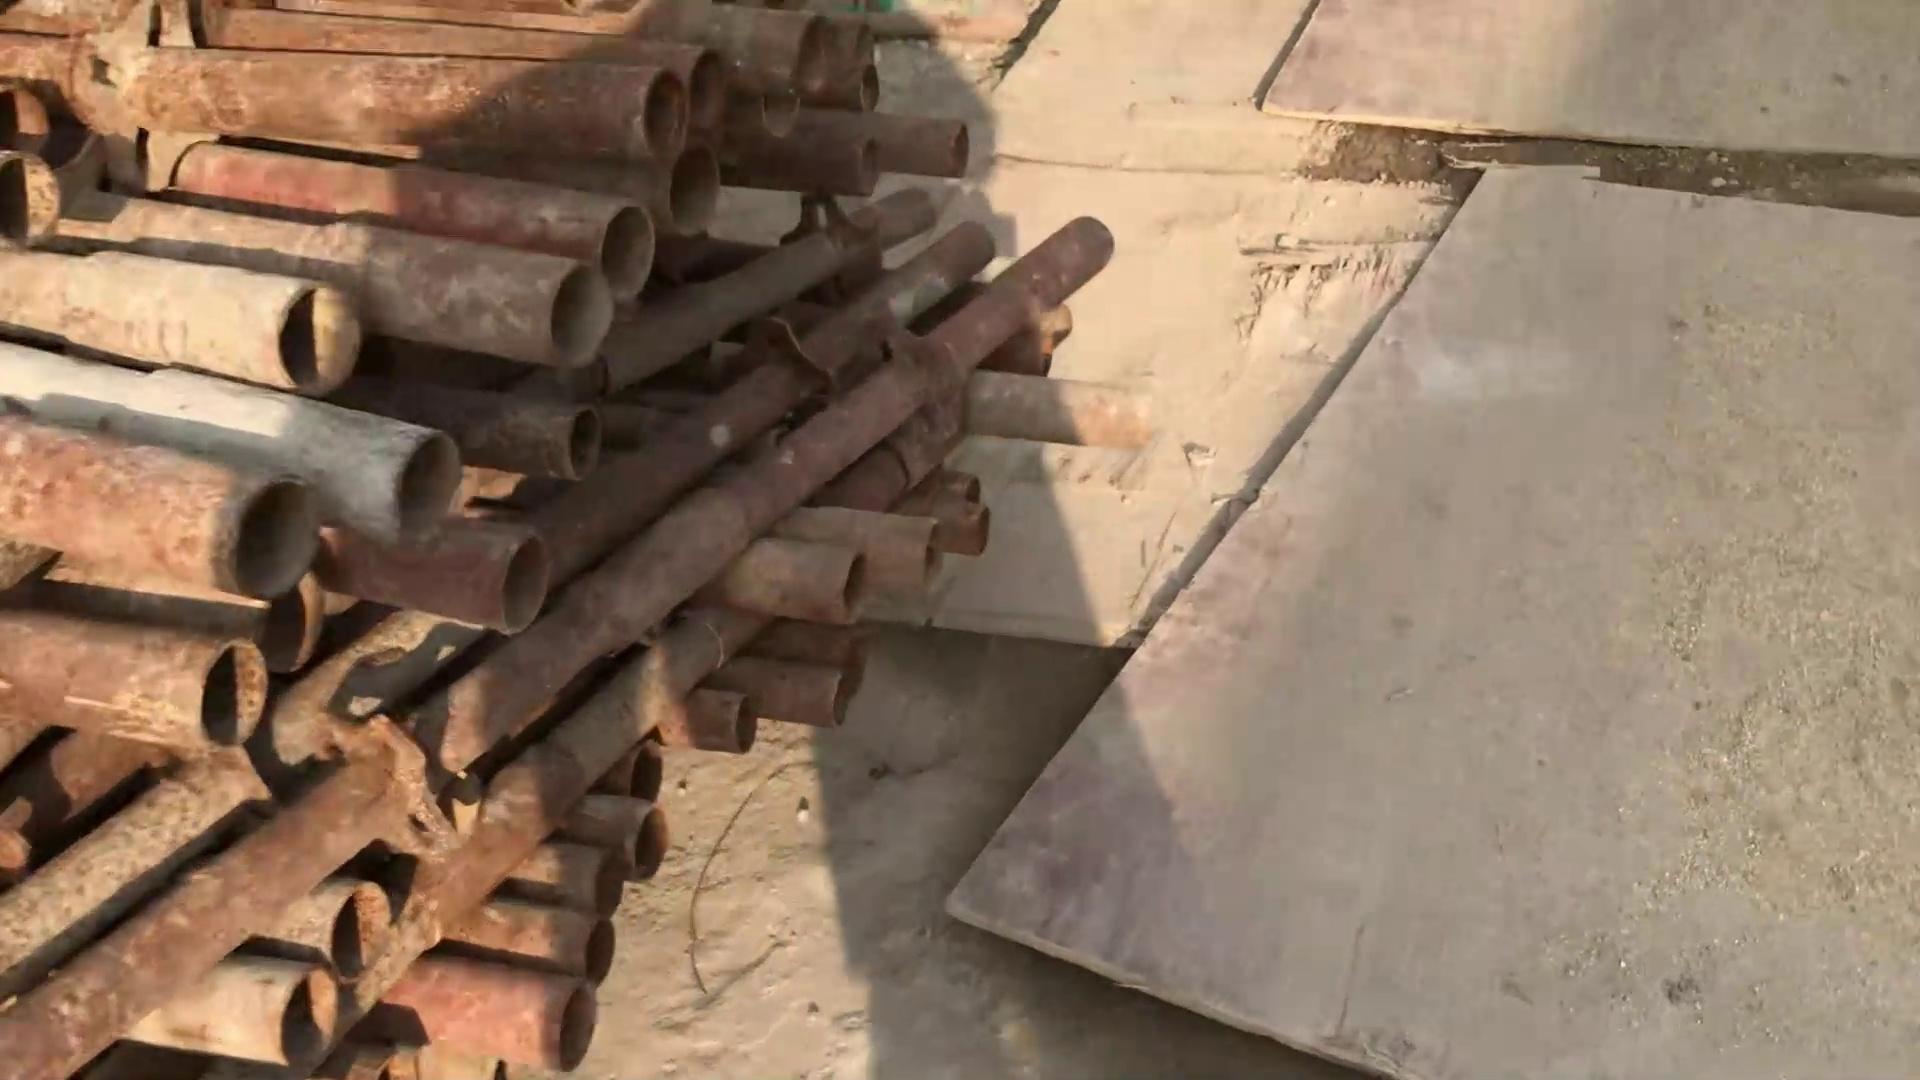scaffold: (1, 1, 1117, 1080)
